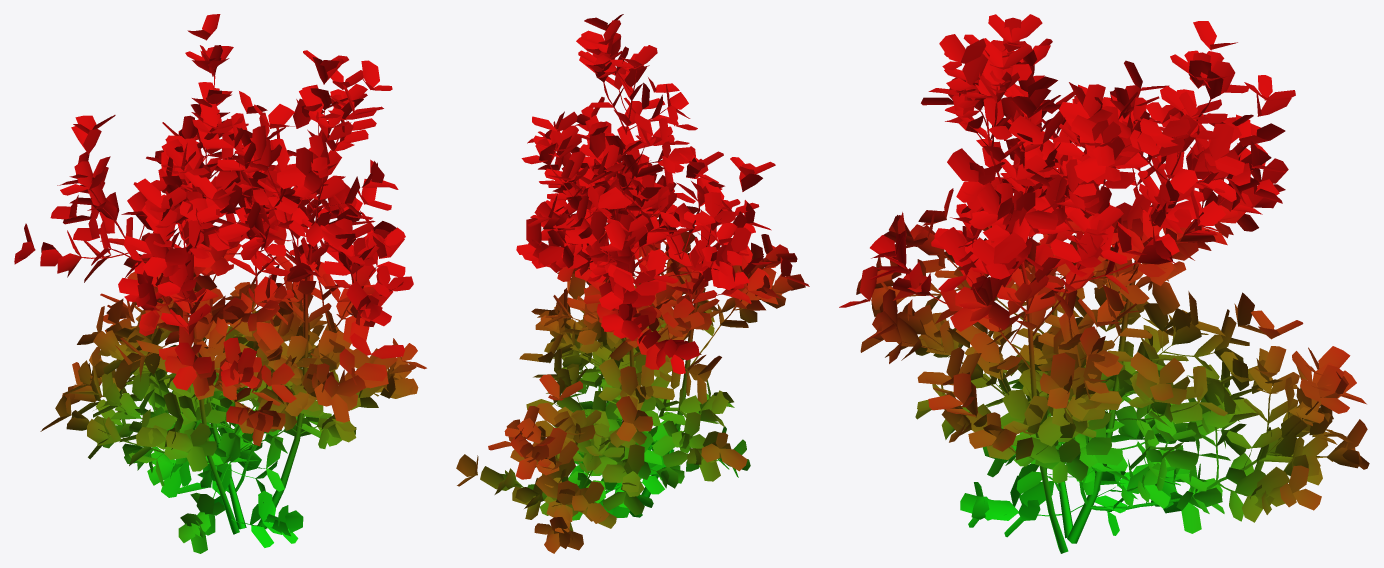
Rendered from Var9_LOD4.fbx.
3 views of the same model, side by side, from view 1: azimuth 30°, elevation 25°; view 2: azimuth 150°, elevation 25°; view 3: azimuth 270°, elevation 25° (orthographic). The views are drawn at different scales.
Parts seen in each view (by area): view 1: _ubx0_Var9_LOD4; view 2: _ubx0_Var9_LOD4; view 3: _ubx0_Var9_LOD4.
Boxes of the visible parts, x1,y1,x2,y2 form: _ubx0_Var9_LOD4: (14,14,426,553); _ubx0_Var9_LOD4: (456,14,809,553); _ubx0_Var9_LOD4: (839,14,1369,553).
Bounding box in the file's own units: 30.29 × 46.69 × 40.34.
